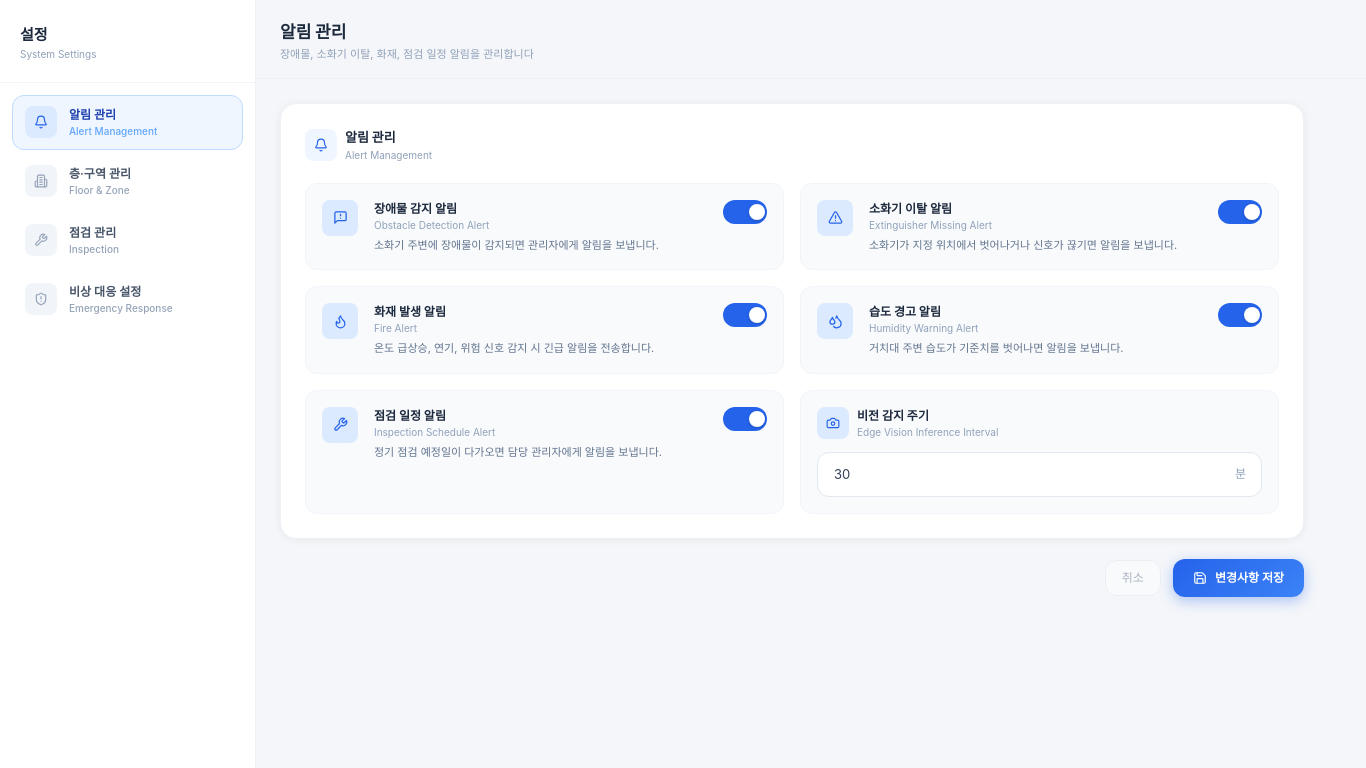
Scenario: Settings › saves alert settings and shows a success message
Expected: the text "장애물 감지 알림" is shown, x1=374 y1=200 x2=457 y2=216
Click the button without text in the row of "화재 발생 알림": {"x": 745, "y": 315} x1=723 y1=303 x2=767 y2=327
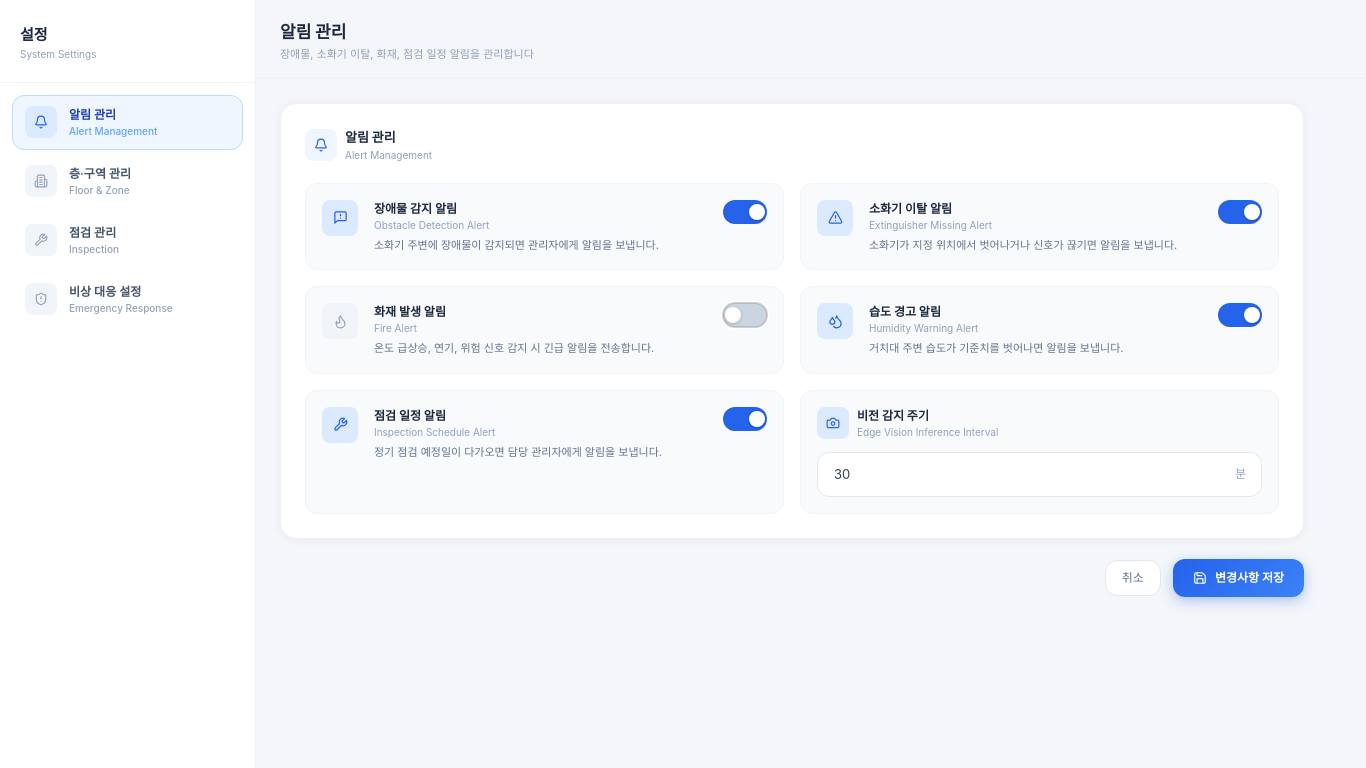
Click the button "변경사항 저장": {"x": 1238, "y": 578} x1=1173 y1=559 x2=1304 y2=597
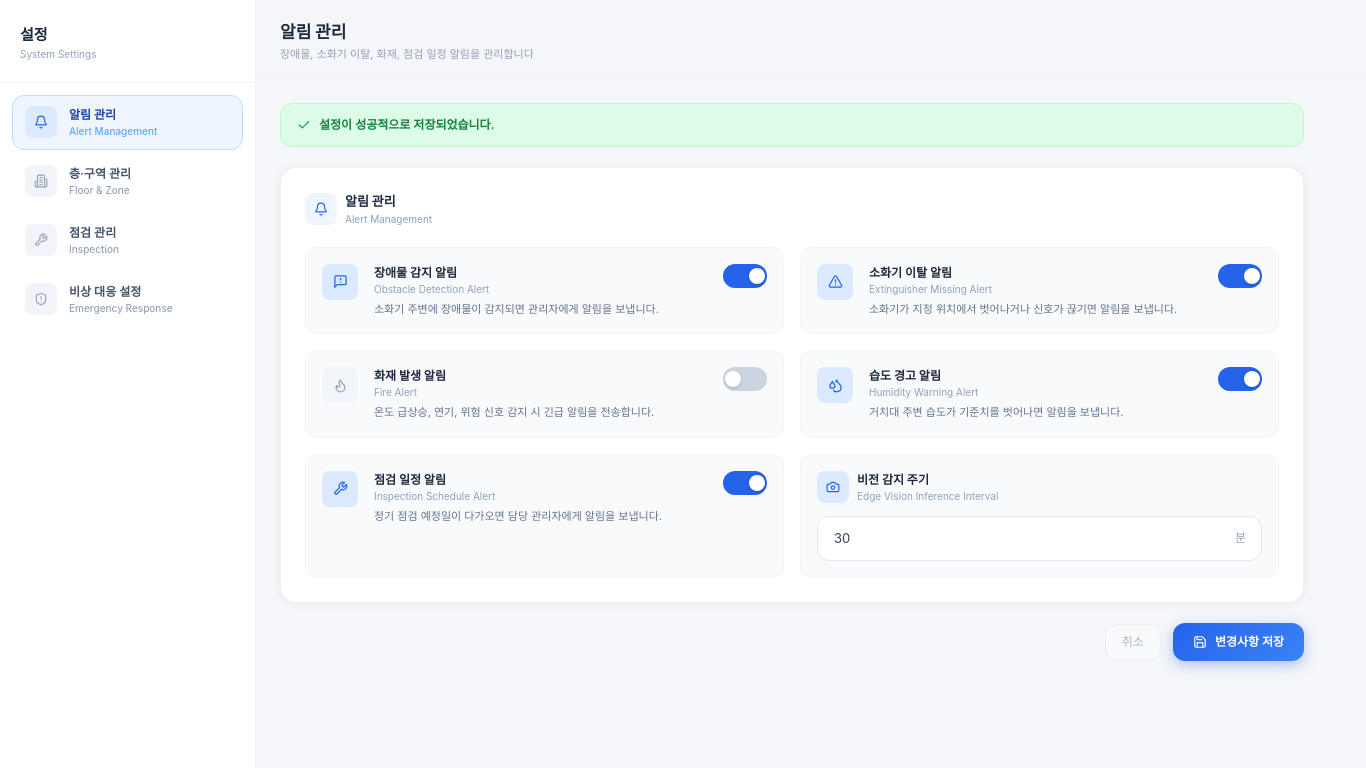
Now the text "설정이 성공적으로 저장되었습니다." is shown, box x1=319 y1=116 x2=494 y2=134
